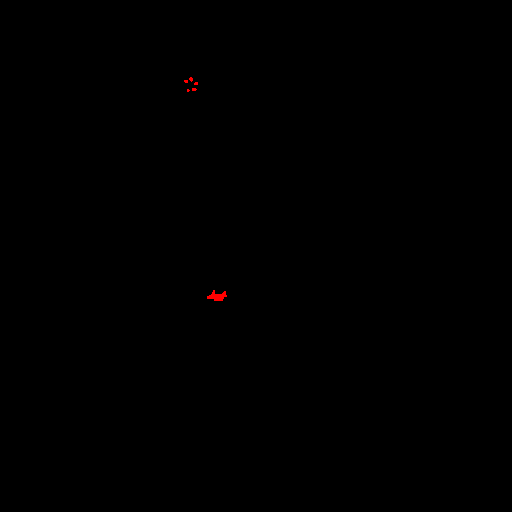Target: (207, 290, 227, 301), (189, 77, 193, 82), (192, 88, 197, 91), (184, 80, 188, 83), (194, 82, 198, 85), (187, 89, 190, 92)
